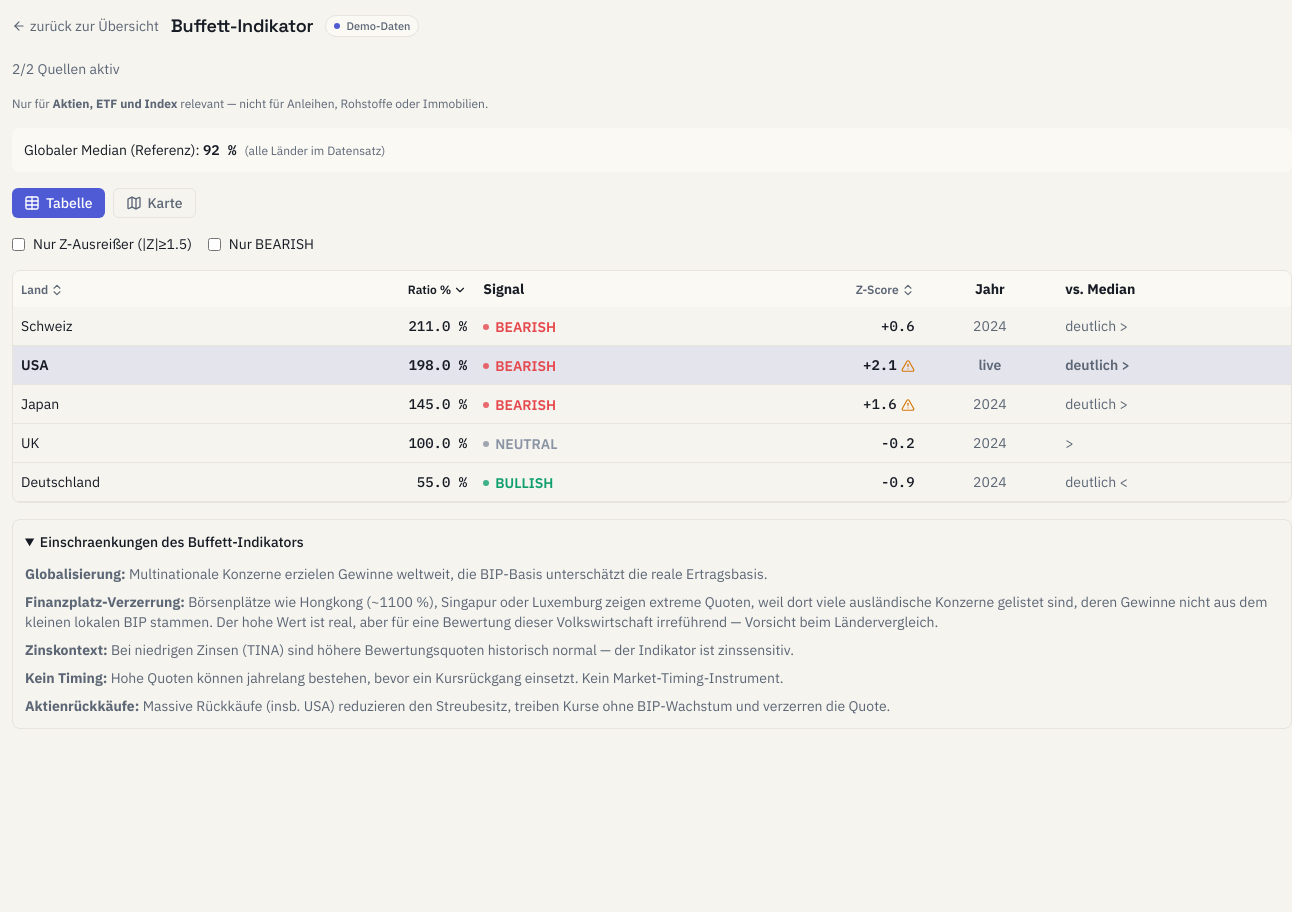
Test case: BuffettWidget (C1) › Filter 'nur BEARISH' versteckt Deutschland (bullish)
Expected: the text "Deutschland" is shown, [13,462,271,502]
Click the checkbox labelled "Nur BEARISH": [214, 244] box [208,238,221,250]
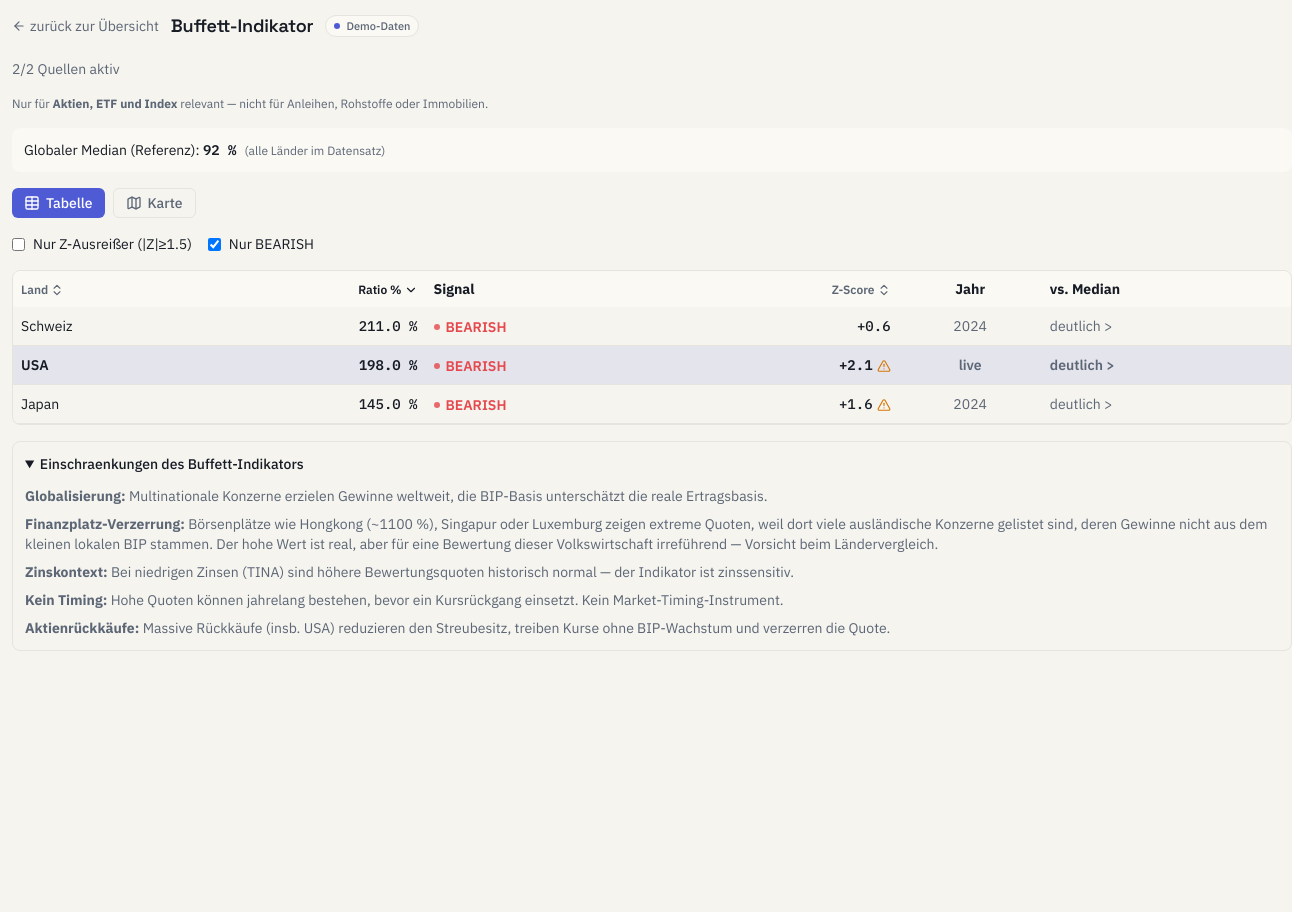
Expected: the text "USA" is shown, [13,346,208,384]
Expected: the text "Deutschland" is gone
